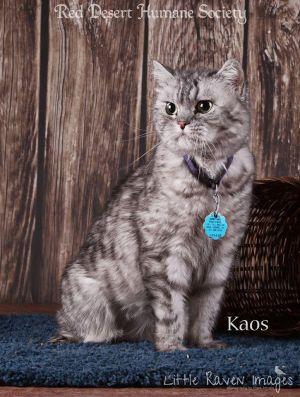persian: (143, 51, 259, 162)
